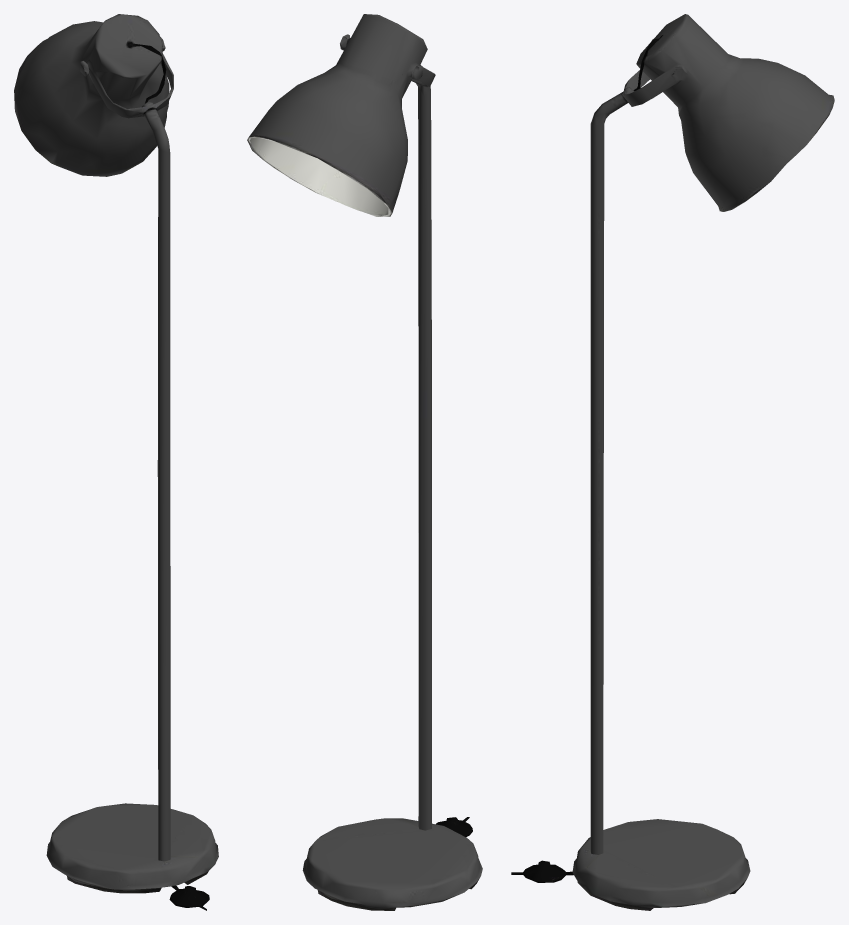
The model's file is 17 - HEKTAR Floor lamp - dark grey.glb.
3 renders of one model, left to right at view 1: azimuth 30°, elevation 25°; view 2: azimuth 150°, elevation 25°; view 3: azimuth 270°, elevation 25°, orthographic. The views are drawn at different scales.
Parts seen in each view (by area): view 1: ProcessedMeshNode; view 2: ProcessedMeshNode; view 3: ProcessedMeshNode.
Part boxes in pixels (box(x1,y1,x2,y2)): ProcessedMeshNode: box(14, 14, 218, 910); ProcessedMeshNode: box(247, 14, 482, 910); ProcessedMeshNode: box(511, 14, 834, 910).
Size of the model in its own units: 0.3593 by 1.83 by 0.6273.
Materials: 1 (1 with a texture image).
